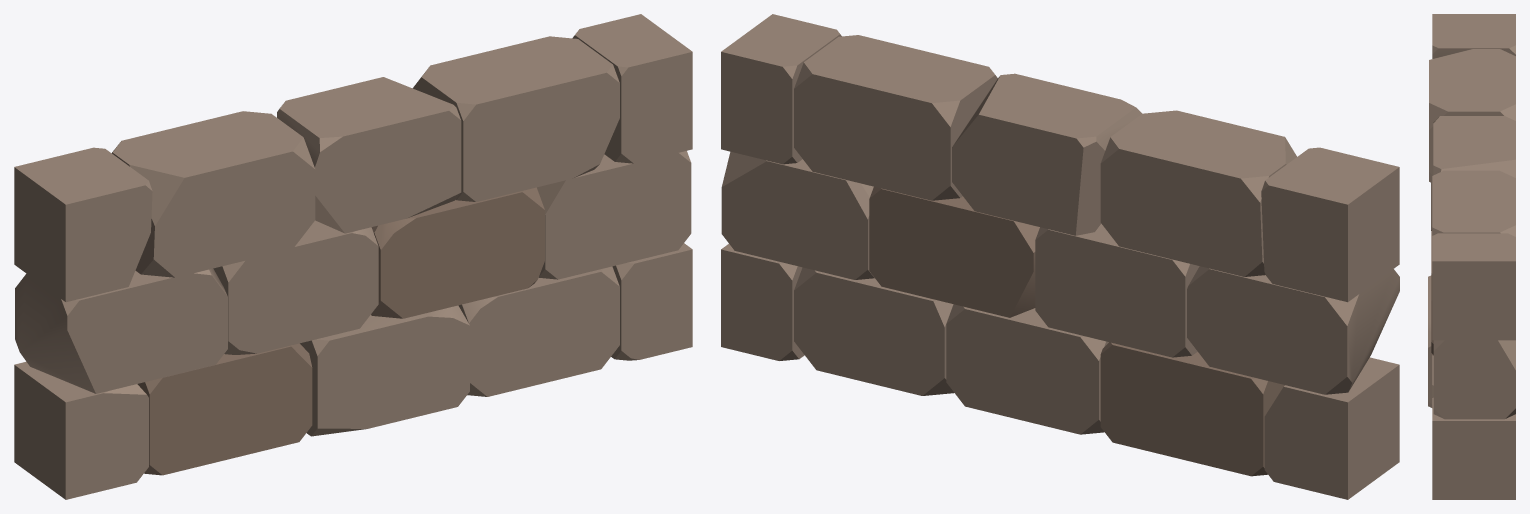
File: Fence_01.fbx
The picture shows the model from 3 angles, left to right: view 1: azimuth 30°, elevation 25°; view 2: azimuth 150°, elevation 25°; view 3: azimuth 270°, elevation 25°; orthographic projection. The views are drawn at different scales.
Visible parts, largest first — view 1: Fence_01; view 2: Fence_01; view 3: Fence_01.
Part boxes in pixels (x1,y1,x2,y2): Fence_01: (14,14,692,499); Fence_01: (721,14,1399,499); Fence_01: (1428,14,1515,499).
Size of the model in its own units: 200 by 90 by 30.
